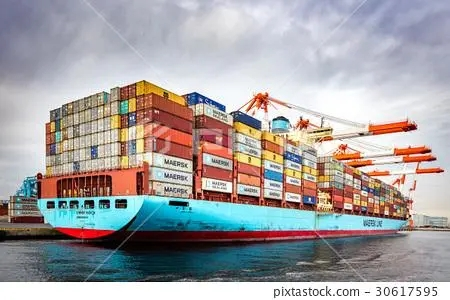Cargoship: (32, 73, 415, 244)
